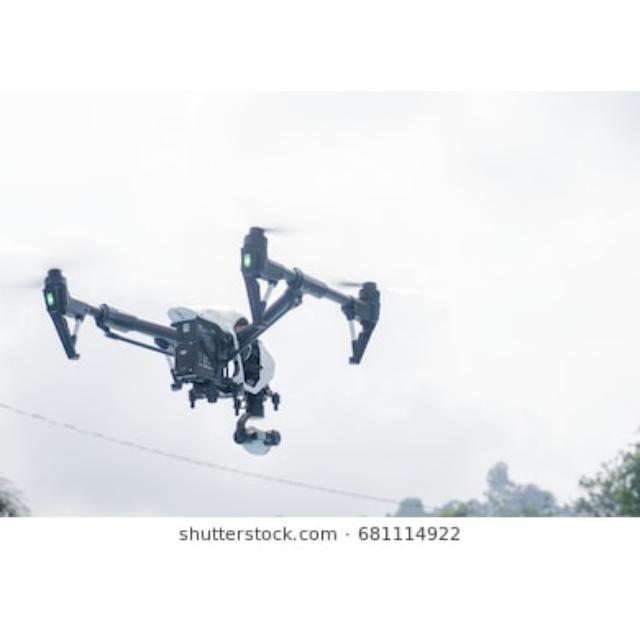Drones: (47, 229, 383, 416)
